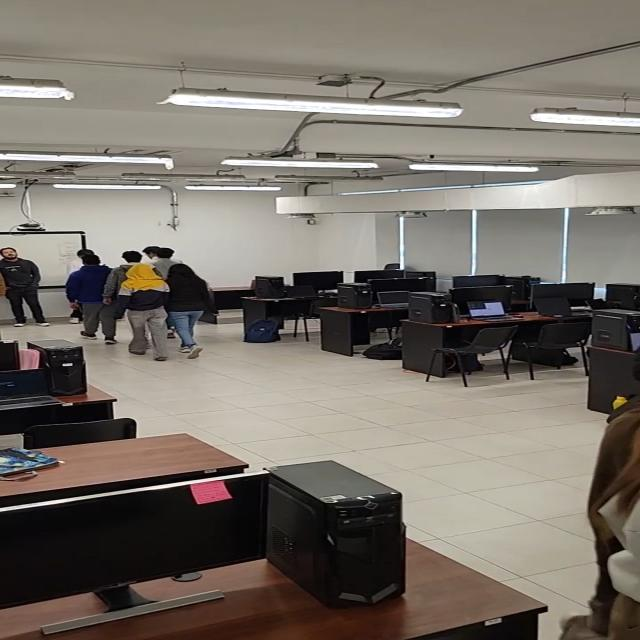Persona: (114, 260, 171, 365), (166, 262, 218, 361), (0, 244, 52, 328), (66, 252, 110, 343)
